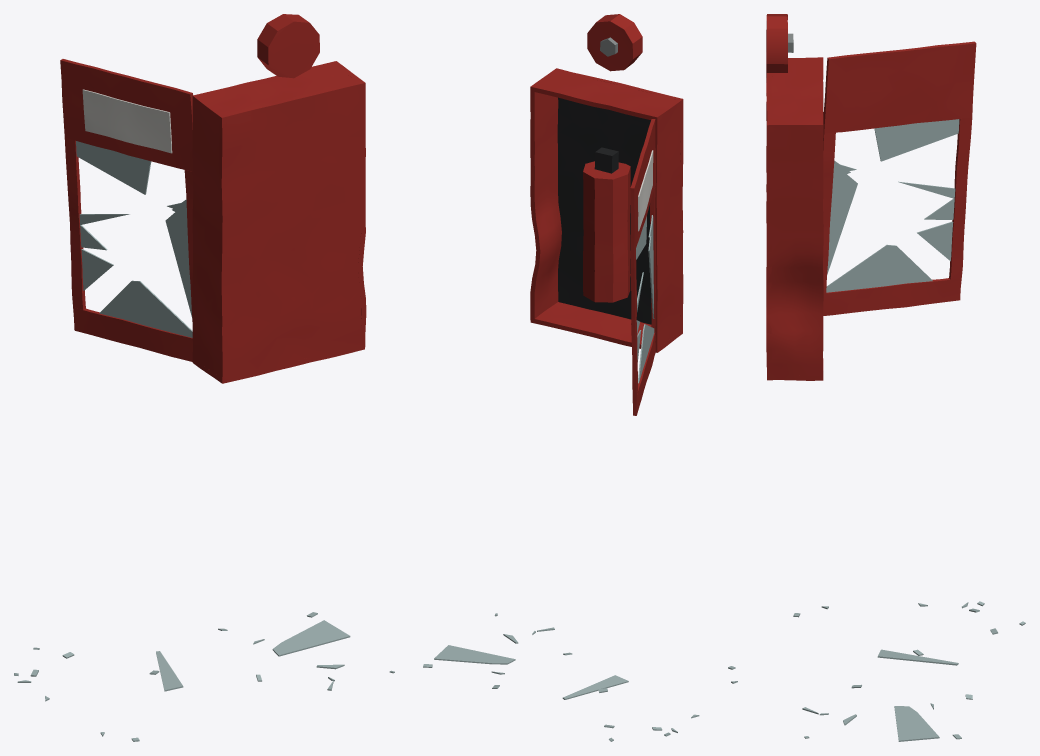
Rendered from fire_cabinet_broken.fbx.
3 views of the same model, side by side, from view 1: azimuth 30°, elevation 25°; view 2: azimuth 150°, elevation 25°; view 3: azimuth 270°, elevation 25° (orthographic). The views are drawn at different scales.
Parts seen in each view (by area): view 1: fire_cabinet_broken, fire_cabinet_door, fire_cabinet_glass; view 2: fire_cabinet_broken, fire_cabinet_door, fire_cabinet_glass; view 3: fire_cabinet_broken, fire_cabinet_door, fire_cabinet_glass.
Part boxes in pixels (bbox=[...]): fire_cabinet_broken: bbox=[192, 14, 366, 383]; fire_cabinet_door: bbox=[60, 59, 193, 361]; fire_cabinet_glass: bbox=[17, 141, 350, 736]; fire_cabinet_broken: bbox=[530, 14, 683, 352]; fire_cabinet_door: bbox=[630, 119, 656, 415]; fire_cabinet_glass: bbox=[434, 215, 737, 732]; fire_cabinet_broken: bbox=[766, 14, 823, 380]; fire_cabinet_door: bbox=[823, 41, 976, 315]; fire_cabinet_glass: bbox=[802, 119, 968, 741].
Size of the model in its own units: 93 by 209 by 73.63.
